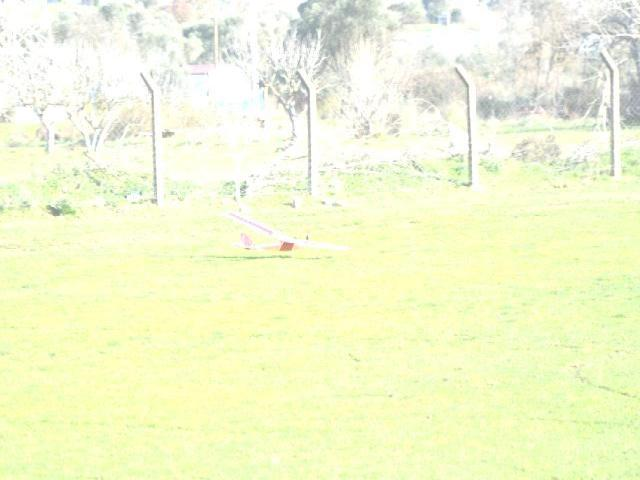iha: (212, 200, 365, 268)
